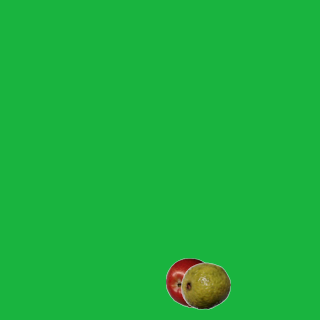Apple Braeburn: (165, 257, 215, 307)
Guava: (180, 260, 230, 310)
